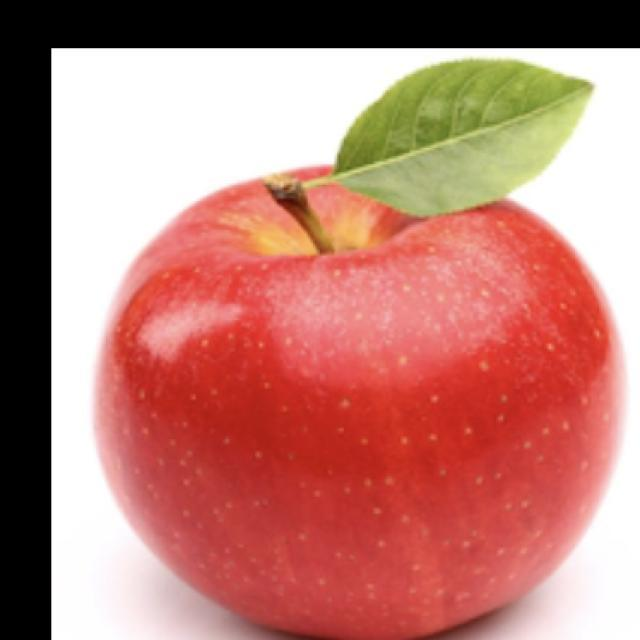Fresh Apple: (96, 180, 640, 640)
